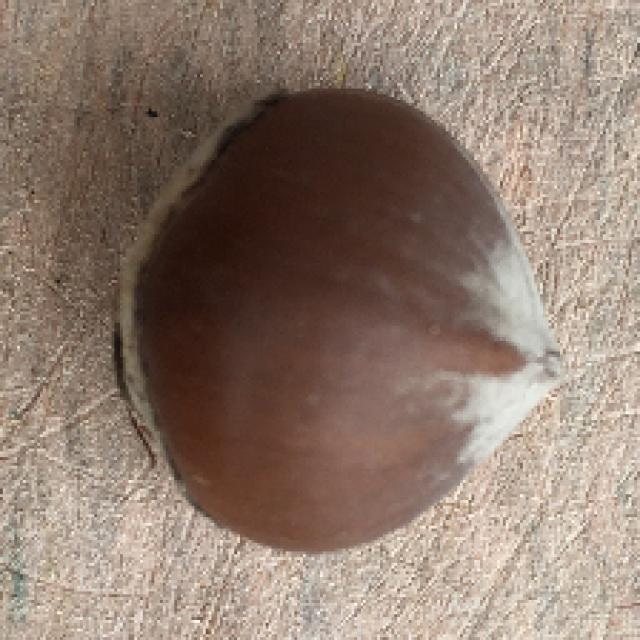damagedHazelnut: (79, 66, 582, 552)
